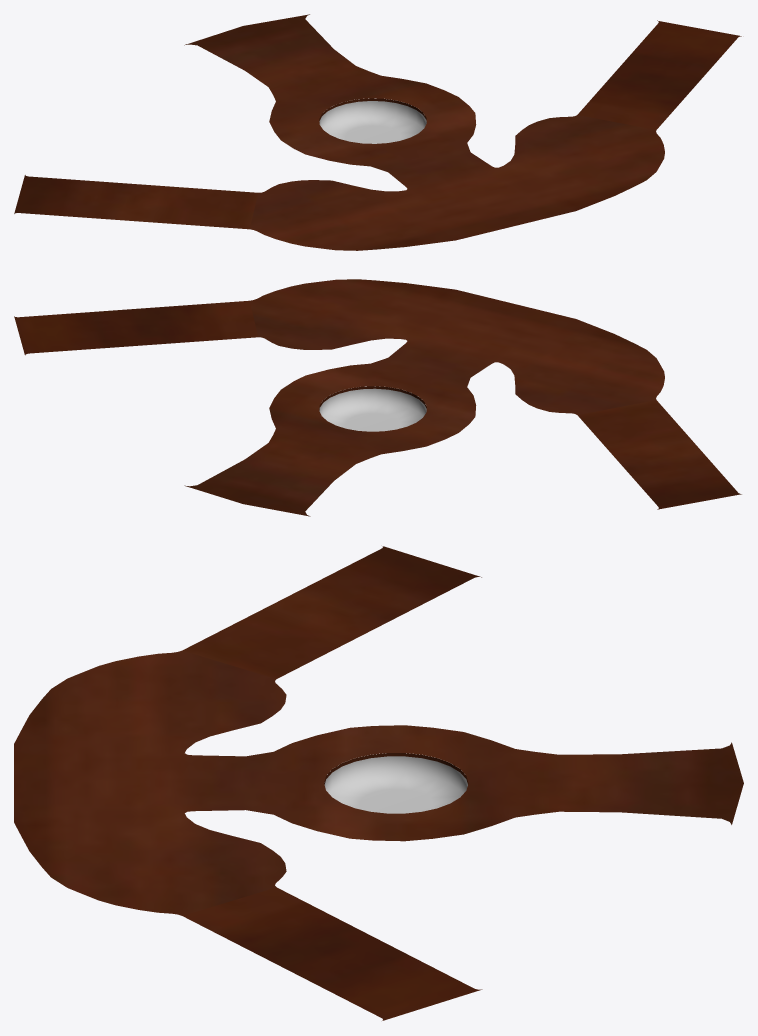
Rendered from Piso_Lobby_Subsolo.fbx.
The picture shows the model from 3 angles, top to bottom: view 1: azimuth 30°, elevation 25°; view 2: azimuth 150°, elevation 25°; view 3: azimuth 270°, elevation 25°; orthographic projection. The views are drawn at different scales.
Parts seen in each view (by area): view 1: Piso_Lobby_Subsolo; view 2: Piso_Lobby_Subsolo; view 3: Piso_Lobby_Subsolo.
Boxes of the visible parts, x1,y1,x2,y2 form: Piso_Lobby_Subsolo: (14, 14, 741, 250); Piso_Lobby_Subsolo: (14, 279, 741, 516); Piso_Lobby_Subsolo: (14, 546, 743, 1020).
Bounding box in the file's own units: 46.74 × 0.9993 × 30.27.
